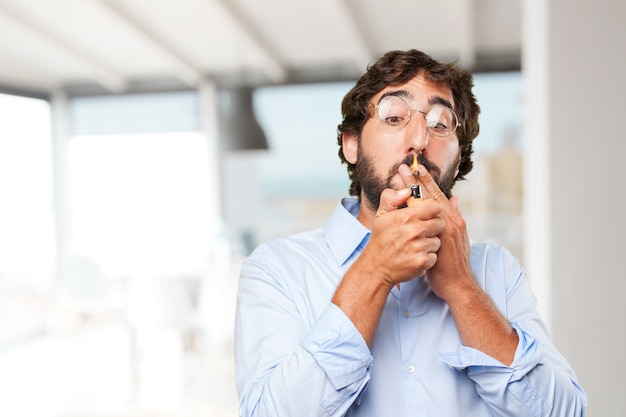cigarette: (410, 168, 422, 179)
